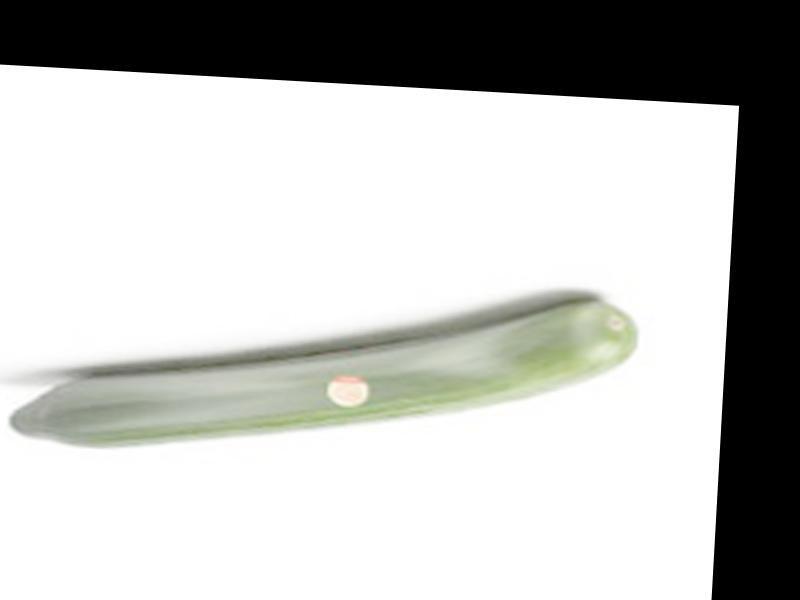Cucumber: (7, 268, 643, 477)
